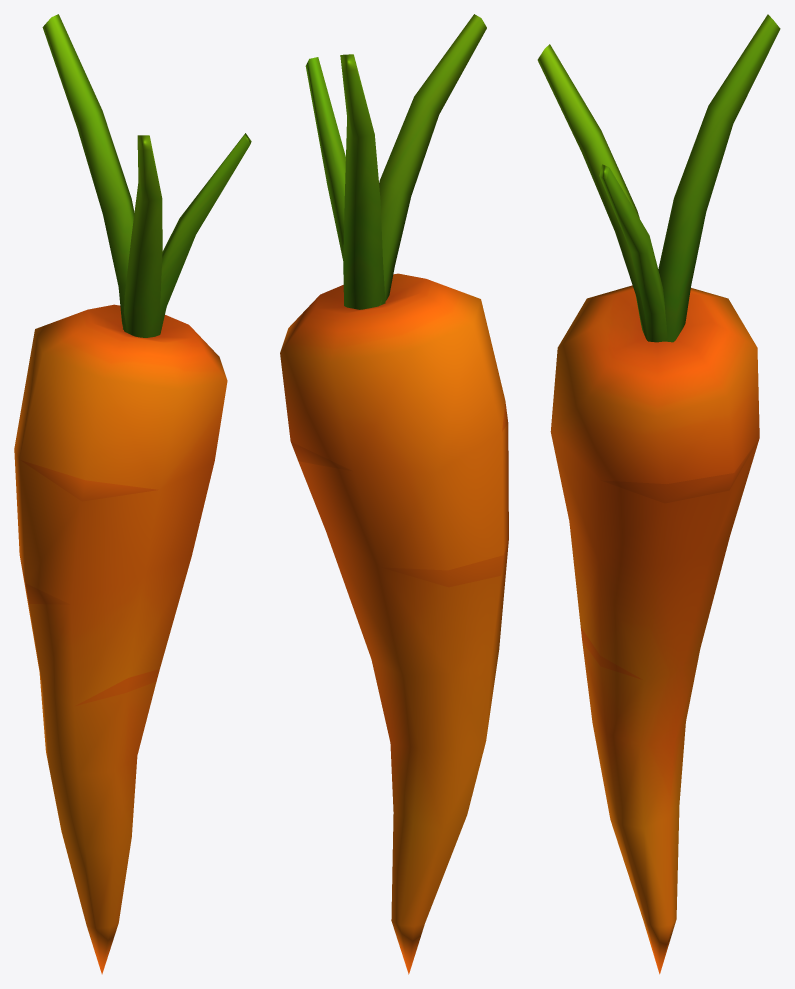
Rendered from carrot.fbx.
The picture shows the model from 3 angles, left to right: view 1: azimuth 30°, elevation 25°; view 2: azimuth 150°, elevation 25°; view 3: azimuth 270°, elevation 25°; orthographic projection. The views are drawn at different scales.
Visible parts, largest first — view 1: carrot; view 2: carrot; view 3: carrot.
Part boxes in pixels (x1=…): carrot: x1=14, y1=14, x2=251, y2=974; carrot: x1=280, y1=14, x2=508, y2=974; carrot: x1=537, y1=14, x2=780, y2=974.
Size of the model in its own units: 6.48 by 27.09 by 6.21.
